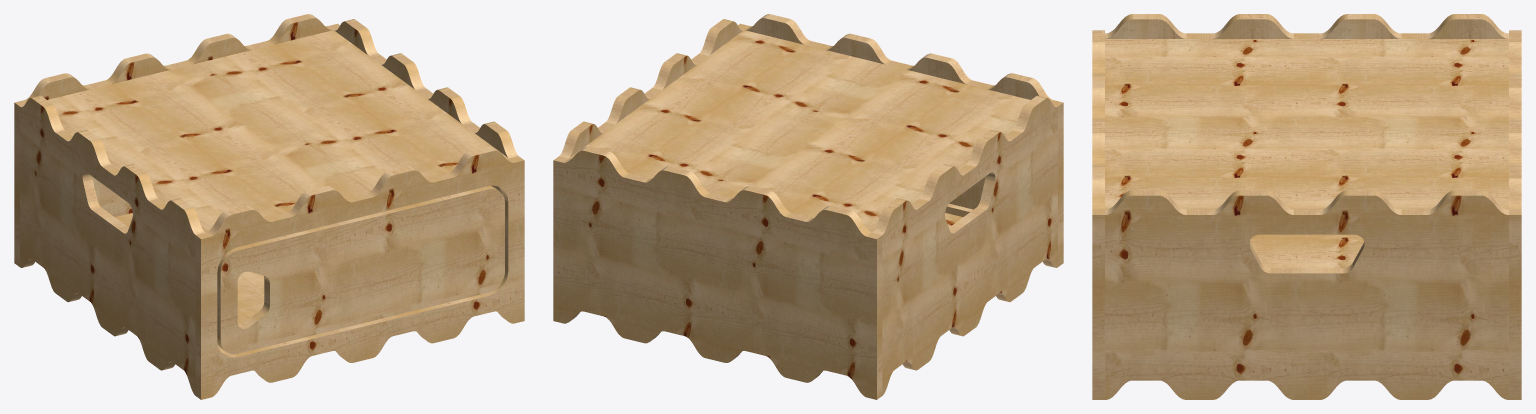
The model's file is half_one_center_scale.glb.
3 views of the same model, side by side, from view 1: azimuth 30°, elevation 25°; view 2: azimuth 150°, elevation 25°; view 3: azimuth 270°, elevation 25° (orthographic). The views are drawn at different scales.
Visible parts, largest first — view 1: half_one.center.scale; view 2: half_one.center.scale; view 3: half_one.center.scale.
Boxes of the visible parts, left/top/right/bottom form: half_one.center.scale: left=14, top=14, right=524, bottom=399; half_one.center.scale: left=553, top=14, right=1063, bottom=399; half_one.center.scale: left=1092, top=14, right=1521, bottom=399.
Size of the model in its own units: 0.5 by 0.2625 by 0.5.
1 material, 1 textured.
